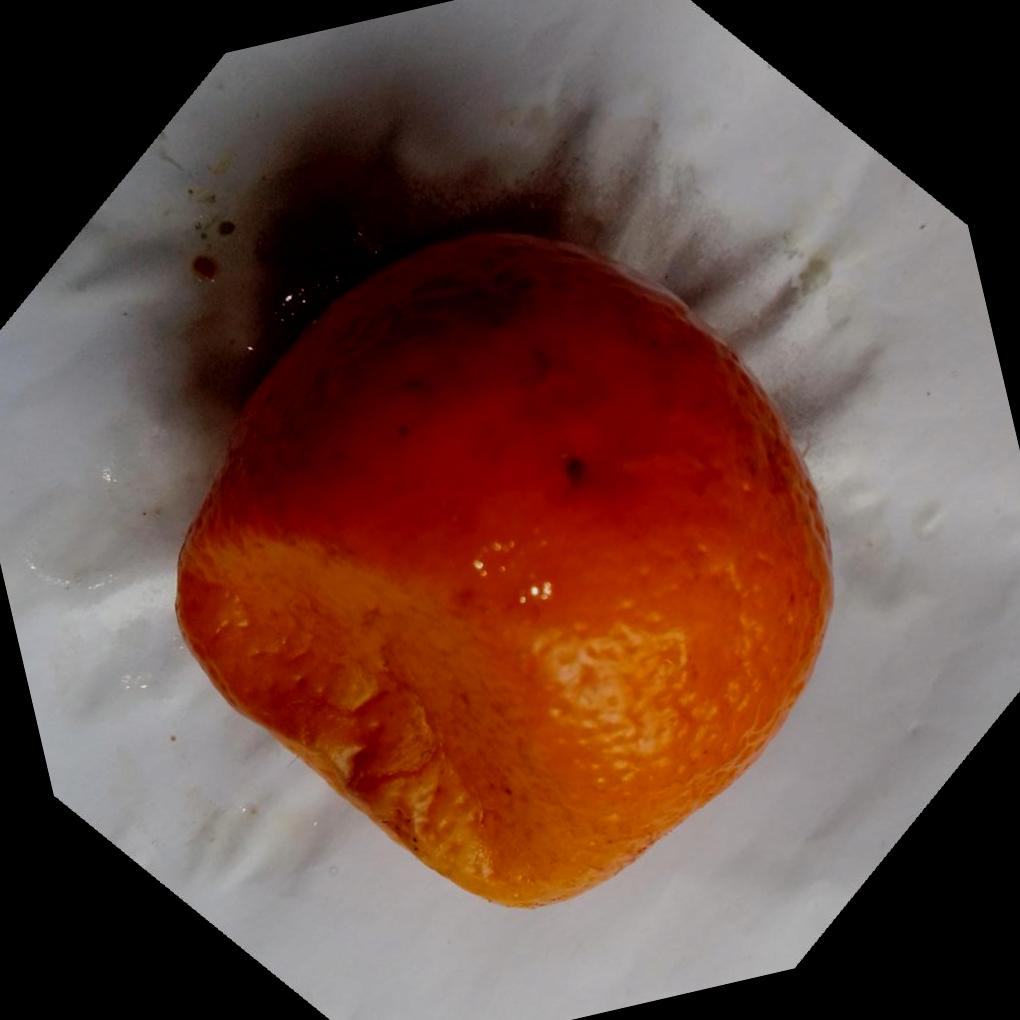FreshOrange: (168, 226, 832, 911)
